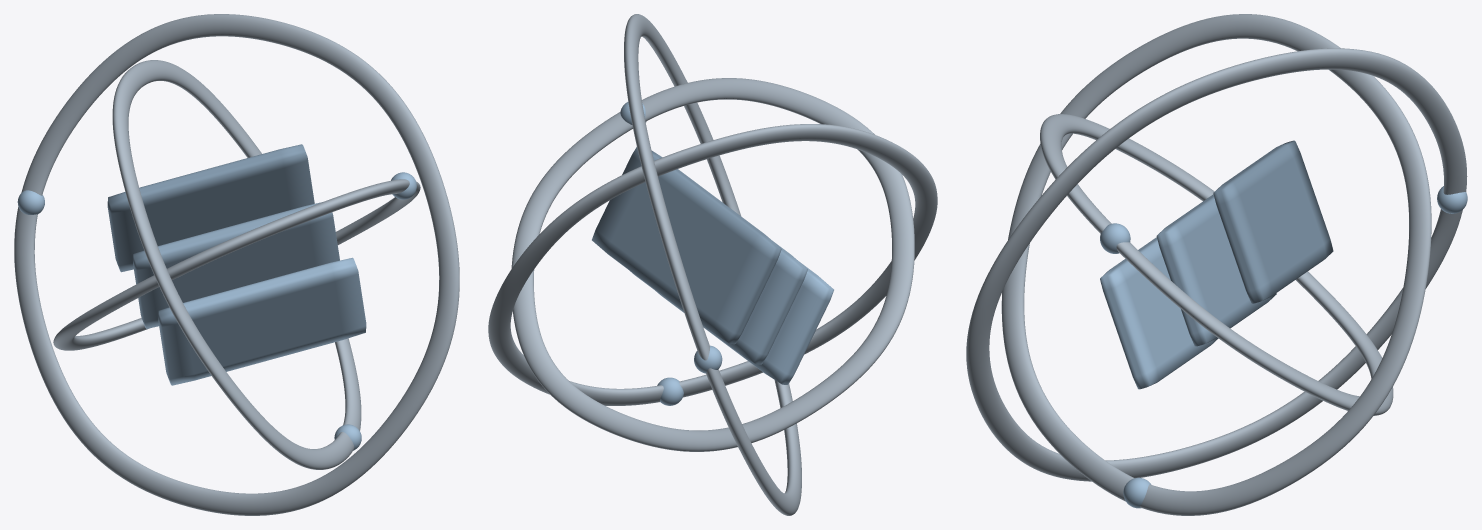
3 views of the same model, side by side, from view 1: azimuth 30°, elevation 25°; view 2: azimuth 150°, elevation 25°; view 3: azimuth 270°, elevation 25° (orthographic). The views are drawn at different scales.
Bounding box in the file's own units: 0.9554 × 1.12 × 1.06.
